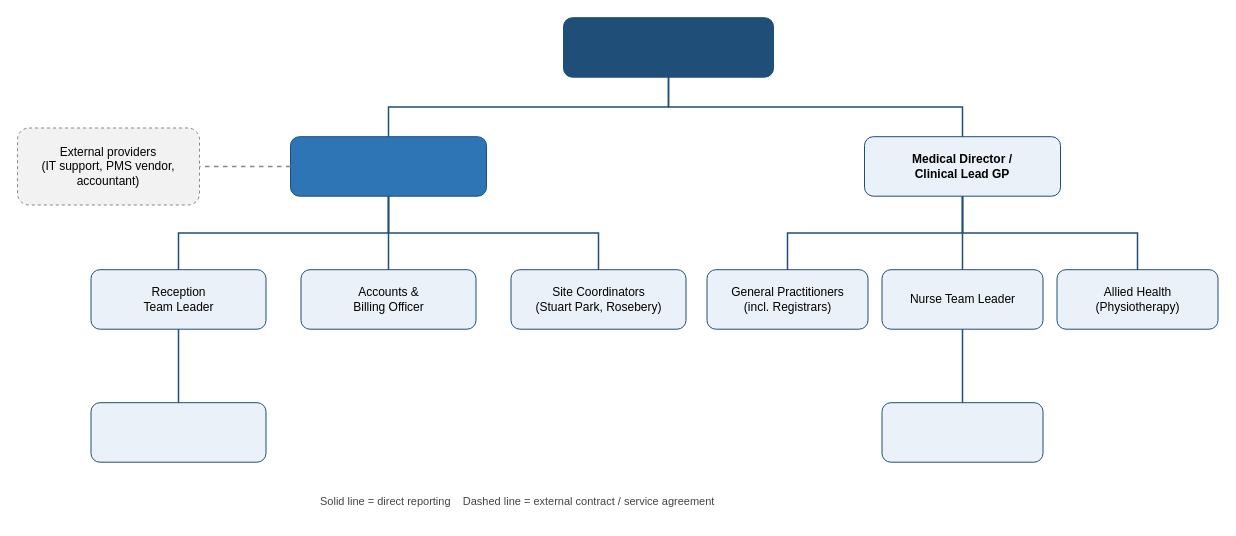
This 1236x536 diagram has some shape labels left out. Each missing label, with the box of its shape:
Board of Directors GP owner-partners: (562, 17, 774, 77)
Practice Manager (operations, all sites): (290, 136, 486, 196)
Practice Nurses: (881, 402, 1043, 462)
Receptionists / Medical Admin: (90, 402, 266, 462)
